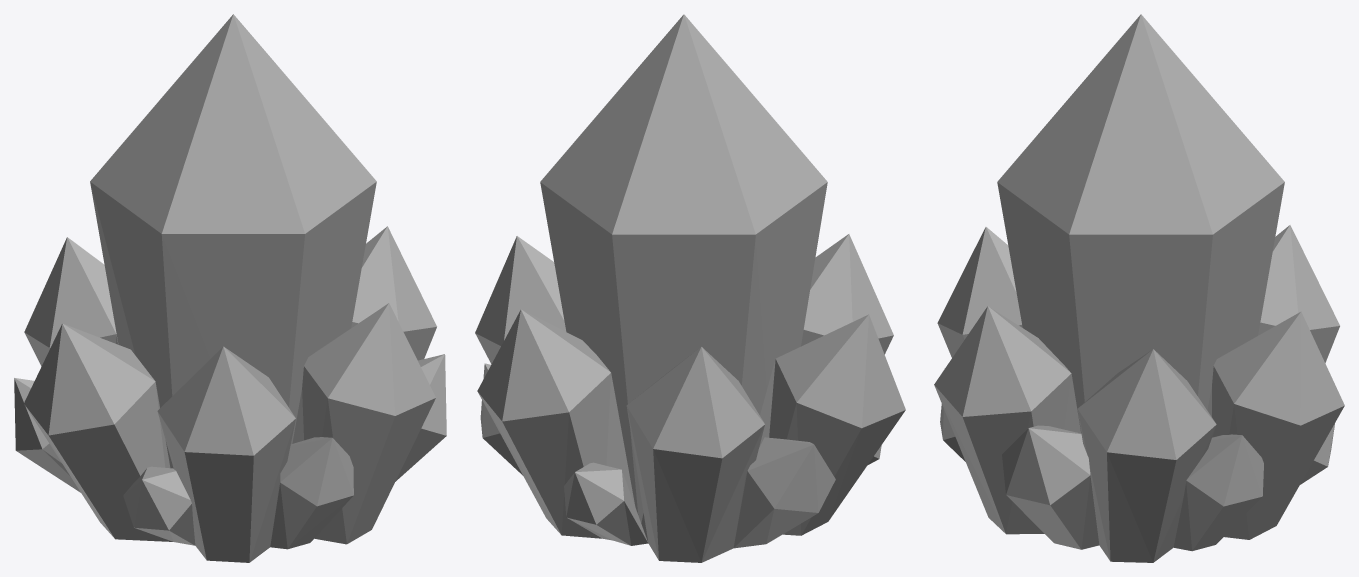
File: crystal_light_gray.obj
3 renders of one model, left to right at view 1: azimuth 30°, elevation 25°; view 2: azimuth 150°, elevation 25°; view 3: azimuth 270°, elevation 25°, orthographic.
Parts seen in each view (by area): view 1: Crystal_Cube; view 2: Crystal_Cube; view 3: Crystal_Cube.
Boxes of the visible parts, bbox=[...] form: Crystal_Cube: bbox=[14, 14, 446, 562]; Crystal_Cube: bbox=[475, 14, 905, 562]; Crystal_Cube: bbox=[934, 14, 1344, 562].
Size of the model in its own units: 0.8345 by 0.9795 by 0.7515.
